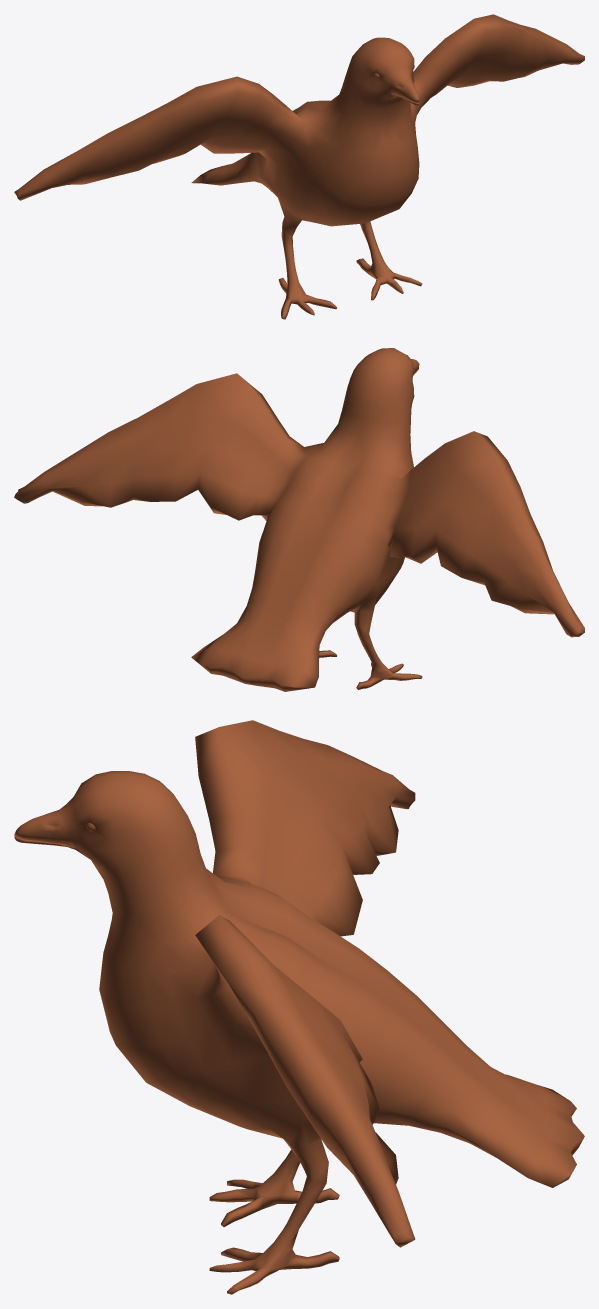
Rendered from Pigeon.fbx.
The picture shows the model from 3 angles, top to bottom: view 1: azimuth 30°, elevation 25°; view 2: azimuth 150°, elevation 25°; view 3: azimuth 270°, elevation 25°; orthographic projection. The views are drawn at different scales.
Visible parts, largest first — view 1: Pigeon; view 2: Pigeon; view 3: Pigeon.
Part boxes in pixels (x1=…): Pigeon: x1=14, y1=14, x2=584, y2=319; Pigeon: x1=14, y1=348, x2=584, y2=691; Pigeon: x1=14, y1=720, x2=584, y2=1294.
Size of the model in its own units: 26.31 by 12.7 by 14.09.
